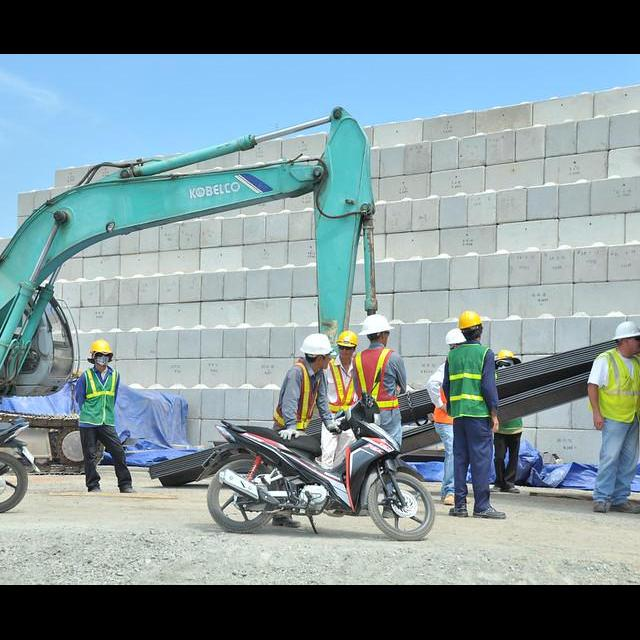Excavator: (0, 111, 381, 475)
Gloves: (279, 425, 300, 441), (328, 420, 342, 432)
Hardhat: (360, 314, 392, 335), (301, 334, 333, 354), (613, 320, 640, 339), (337, 331, 359, 348), (460, 311, 482, 328), (89, 340, 111, 354), (447, 330, 466, 346), (496, 350, 519, 362)
Mask: (95, 358, 110, 367)
NO-Mask: (316, 360, 330, 370), (338, 351, 351, 360), (629, 344, 640, 354), (381, 339, 390, 346)
Person: (443, 310, 506, 519), (269, 334, 335, 527), (352, 313, 408, 517), (586, 319, 640, 516), (76, 338, 140, 495), (426, 330, 471, 503), (323, 329, 358, 515), (491, 348, 526, 492)
Safety Vest: (271, 359, 321, 432), (598, 349, 640, 424), (448, 343, 490, 417), (354, 347, 402, 410), (79, 369, 118, 424), (325, 355, 359, 413), (496, 366, 524, 435), (432, 386, 454, 425)
